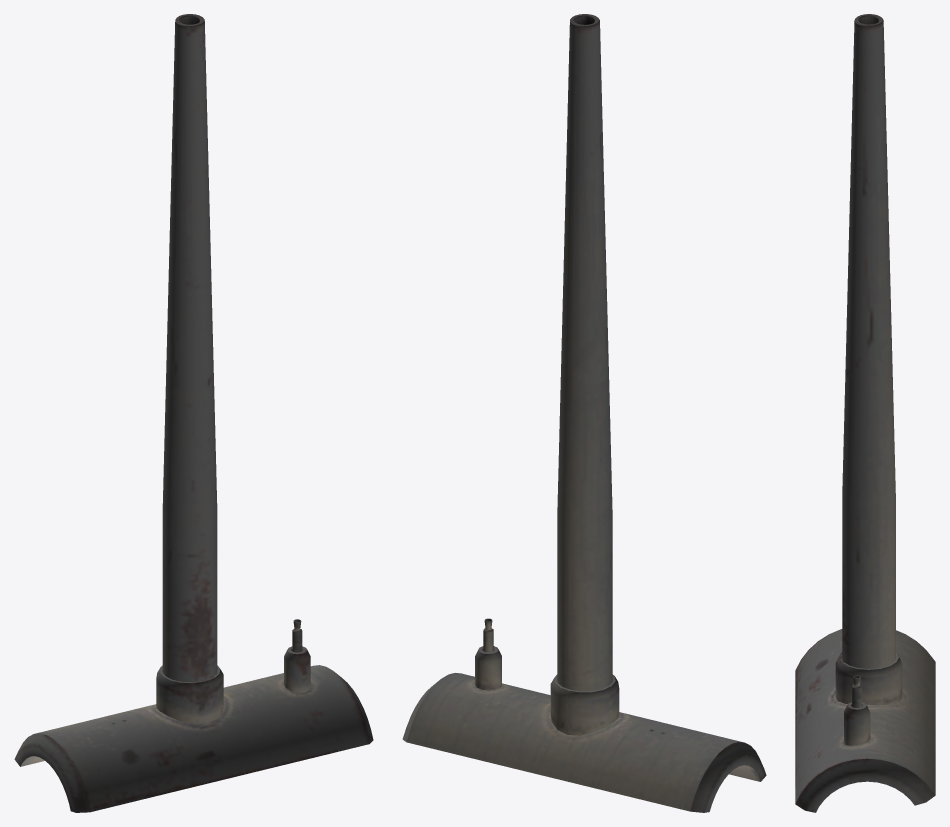
File: Gun_10.glb
The picture shows the model from 3 angles, left to right: view 1: azimuth 30°, elevation 25°; view 2: azimuth 150°, elevation 25°; view 3: azimuth 270°, elevation 25°; orthographic projection. The views are drawn at different scales.
Parts seen in each view (by area): view 1: set_0_group_0; view 2: set_0_group_0; view 3: set_0_group_0.
Part boxes in pixels (box(x1,y1,x2,y2)): set_0_group_0: box(14, 14, 373, 812); set_0_group_0: box(402, 14, 766, 812); set_0_group_0: box(795, 14, 935, 812).
Bounding box in the file's own units: 1.26 × 2.97 × 0.5237.
Materials: 1 (1 with a texture image).
